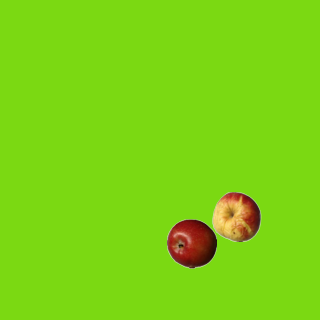Apple Braeburn: (166, 218, 216, 268)
Apple Red Yellow 1: (211, 191, 261, 241)
